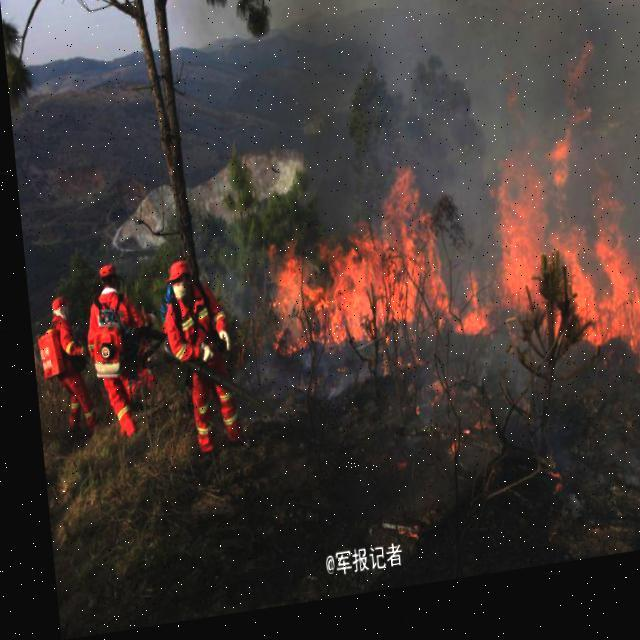Fire: (474, 56, 639, 394), (253, 164, 488, 377)
